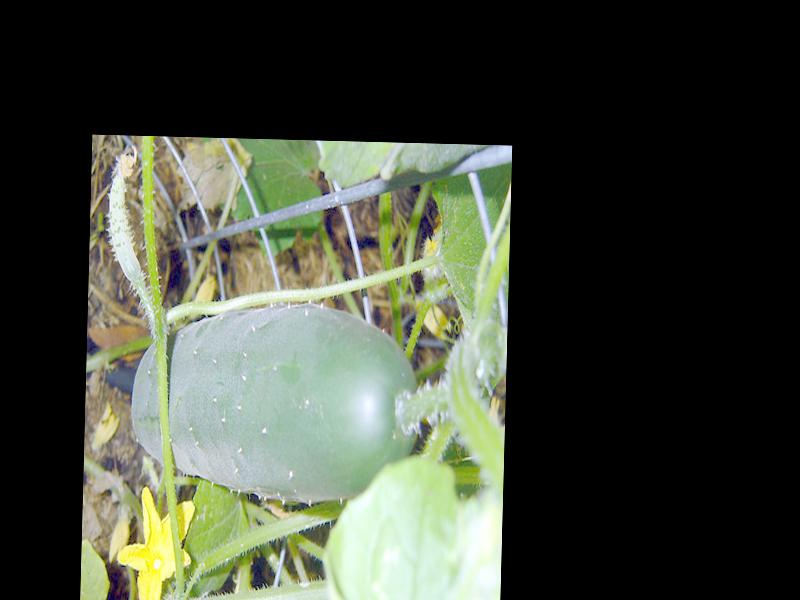Cucumber: (130, 296, 420, 504)
